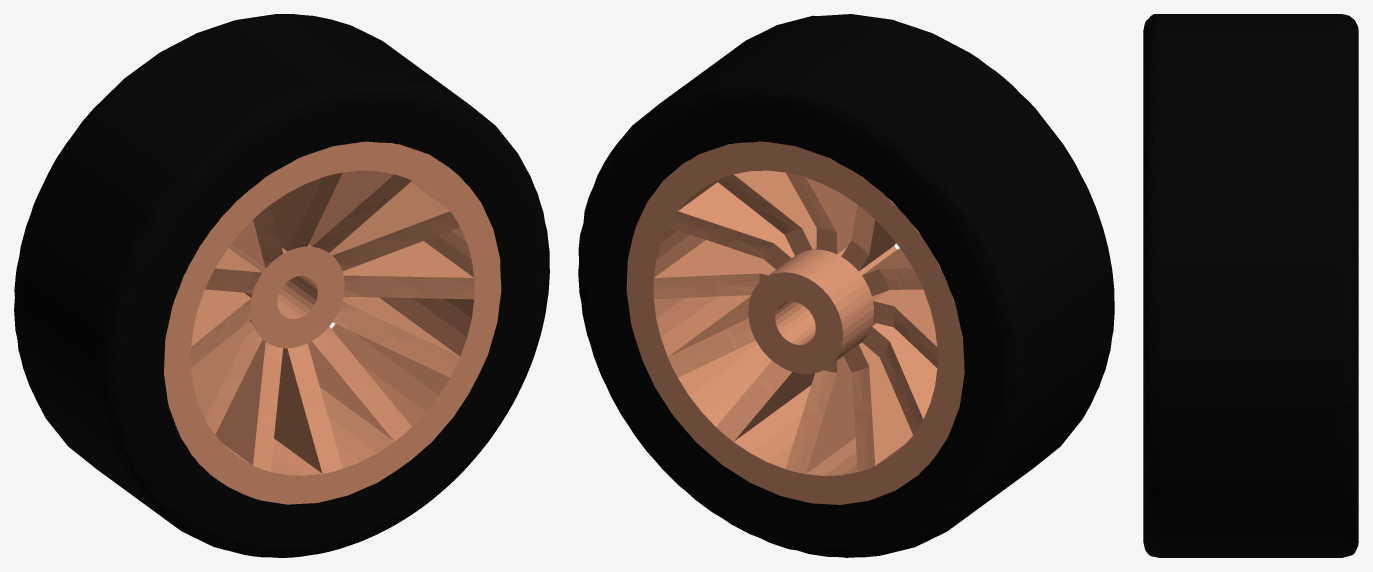
Rendered from wheel.dae.
3 views of the same model, side by side, from view 1: azimuth 30°, elevation 25°; view 2: azimuth 150°, elevation 25°; view 3: azimuth 270°, elevation 25° (orthographic). The views are drawn at different scales.
Parts seen in each view (by area): view 1: node; view 2: node; view 3: node.
Boxes of the visible parts, x1,y1,x2,y2 form: node: [14, 14, 549, 557]; node: [578, 14, 1114, 557]; node: [1143, 14, 1358, 557].
Bounding box in the file's own units: 66 × 66 × 26.
